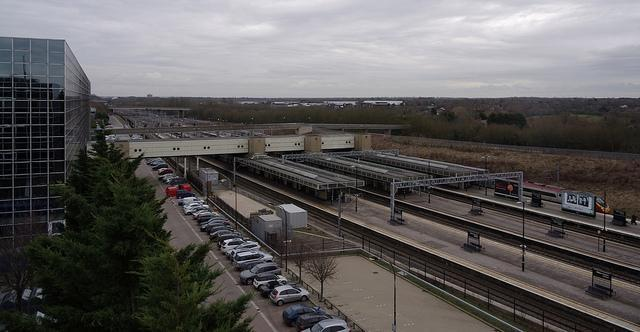car: (238, 262, 282, 285), (269, 284, 310, 305), (285, 305, 324, 326), (232, 251, 274, 270), (224, 240, 262, 260), (295, 313, 334, 332), (301, 318, 353, 332), (258, 280, 296, 297), (230, 248, 260, 260), (220, 238, 245, 252), (183, 203, 209, 211), (210, 227, 233, 236), (176, 190, 196, 199)
